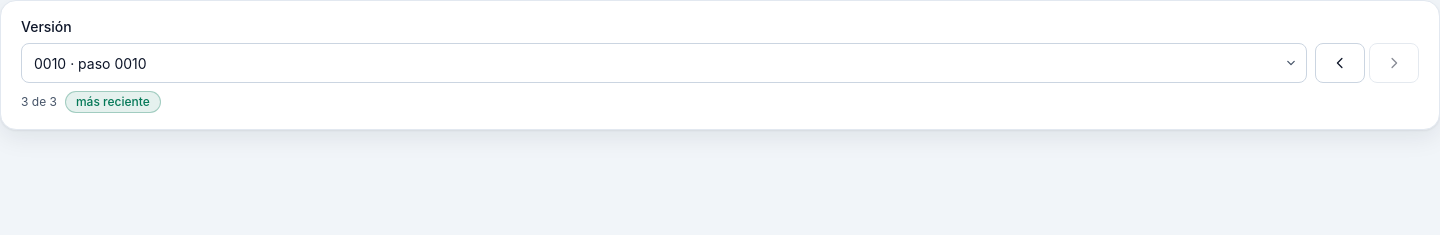
Test: VersionNavigator › el desplegable pinta «sin rollback», que antes no existía en ninguna vista
The width and height of the screenshot is (1440, 235).
Click the button named "Abrir lista" at (1291, 63), box [1279,51,1303,75]
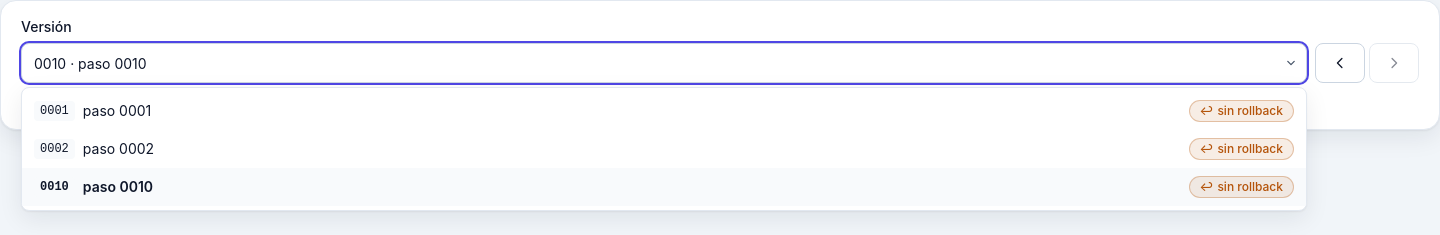
Expected: the text "sin rollback" in the row of "paso 0001" is shown, [1217,103,1283,118]
